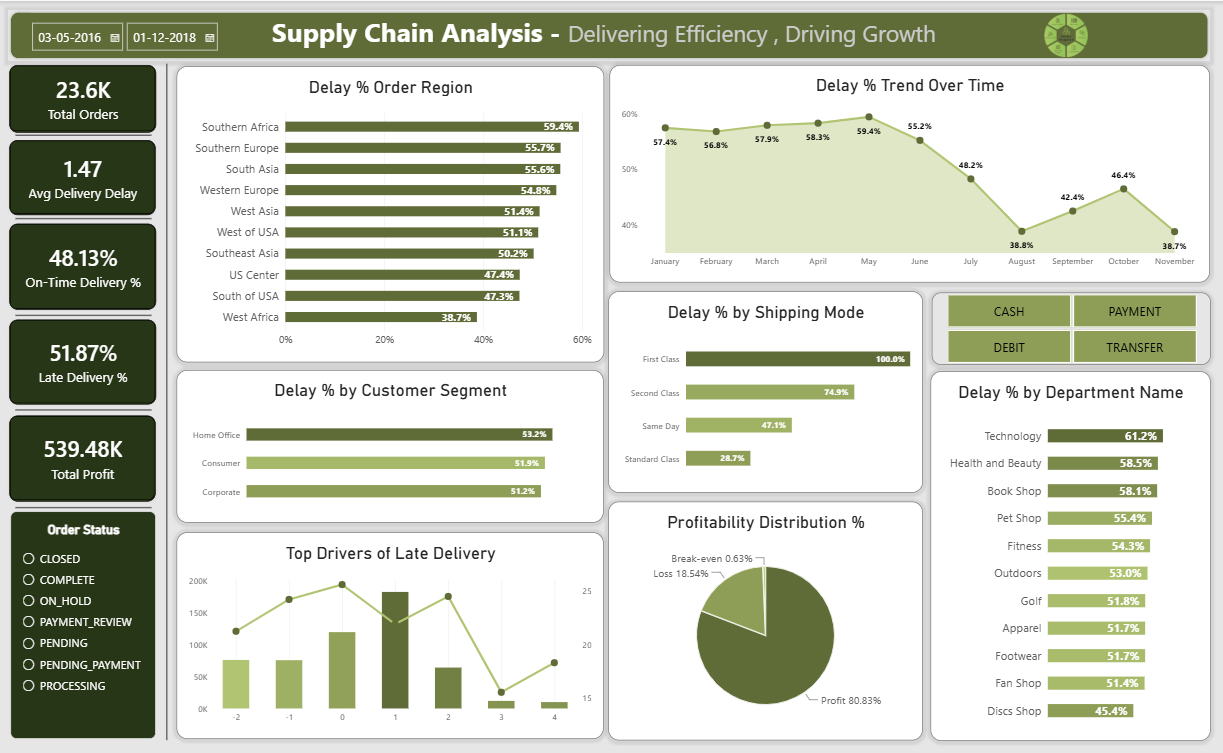

This screenshot's page, from the dashboard's own definition file:
{"tool":"powerbi","page":{"name":"Page 1","canvas":[1920,1080],"ordinal":0},"visuals":[{"type":"shape","box":[15.3,11.9,1703.4,72.9],"z":0},{"type":"textbox","box":[346,18,1026,72],"z":1000},{"type":"image","box":[1457.1,12.9,115.7,72.8],"z":2000},{"type":"shape","box":[218.2,89.1,45.5,958.2],"z":3000},{"type":"cardVisual","fields":{"Data":["Measure (2).On-Time Delivery %"]},"box":[17.2,315.4,208.3,122.3],"z":4000},{"type":"cardVisual","fields":{"Data":["Measure (2).Total Orders"]},"box":[17.2,89.8,208.3,95.6],"z":5000},{"type":"cardVisual","fields":{"Data":["Measure (2).Avg Delivery Delay"]},"box":[17.4,196.9,207.3,106.3],"z":6000},{"type":"cardVisual","fields":{"Data":["Measure (2).Late Delivery %"]},"box":[17.2,451.1,208.3,120.4],"z":7000},{"type":"cardVisual","fields":{"Data":["Measure (2).Total Profit"]},"box":[18.2,587.3,207.3,121.8],"z":8000},{"type":"barChart","fields":{"Y":["Measure (2).Delay %"],"Category":["Supply Chain.Customer Segment"]},"box":[254.4,523.4,605.1,216.3],"z":9000},{"type":"areaChart","title":" Delay % Trend Over Time","fields":{"Category":["Supply Chain.order date (DateOrders).Variation.Date Hierarchy.Month"],"Y":["Measure (2).Delay %"]},"box":[867.7,90.6,850.3,308.4],"z":10000},{"type":"barChart","fields":{"Y":["Measure (2).Delay %"],"Category":["Supply Chain.Shipping Mode"]},"box":[866.8,410.7,445.2,285.3],"z":11000},{"type":"lineClusteredColumnComboChart","title":"Top Drivers of Late Delivery","fields":{"Category":["Supply Chain.Delay Days"],"Y":["Measure (2).Total Profit"],"Y2":["Measure (2).Average Profit"]},"box":[254.4,752.3,605.1,292.6],"z":12000},{"type":"pieChart","title":"Profitability Distribution %","fields":{"Category":["Supply Chain.Profitability Flag"],"Y":["CountNonNull(Supply Chain.Order Profit Per Order)"]},"box":[866.8,708.7,445.2,338],"z":13000},{"type":"barChart","fields":{"Y":["Measure (2).Delay %"],"Category":["Supply Chain.Department Name"]},"box":[1321.8,523.6,396.4,523.6],"z":14000},{"type":"listSlicer","fields":{"Values":["Supply Chain.Order Status"]},"box":[20,723.3,205.3,321.7],"z":15000},{"type":"slicer","fields":{"Values":["Supply Chain.Type"]},"box":[1324.2,413,395.5,102.8],"z":16000},{"type":"slicer","fields":{"Values":["Supply Chain.order date (DateOrders)"]},"box":[41.8,26.1,304.9,48.8],"z":17000},{"type":"barChart","title":"Delay % Order Region","fields":{"Y":["Measure (2).Delay %"],"Category":["Supply Chain.Order Region"]},"box":[254.6,92,605.4,419.3],"z":18000},{"type":"shape","box":[25.5,183.6,192.7,14.5],"z":19000},{"type":"shape","box":[25.5,290.9,192.7,34.5],"z":20000},{"type":"shape","box":[25.5,398.2,192.7,92.7],"z":21000},{"type":"shape","box":[25.5,560,192.7,40],"z":22000},{"type":"shape","box":[25.5,701.8,192.7,30.9],"z":23000}]}

Visuals, with their boxes in screenshot pixels (x1, y1, x2, y2):
shape: BBox(25, 10, 1057, 55)
textbox: BBox(226, 14, 847, 58)
image: BBox(899, 11, 969, 55)
shape: BBox(148, 57, 176, 638)
cardVisual - Measure (2).On-Time Delivery %: BBox(26, 194, 153, 268)
cardVisual - Measure (2).Total Orders: BBox(26, 58, 153, 116)
cardVisual - Measure (2).Avg Delivery Delay: BBox(26, 122, 152, 187)
cardVisual - Measure (2).Late Delivery %: BBox(26, 277, 153, 349)
cardVisual - Measure (2).Total Profit: BBox(27, 359, 153, 433)
barChart - Measure (2).Delay % x Supply Chain.Customer Segment: BBox(170, 320, 537, 451)
" Delay % Trend Over Time" areaChart: BBox(542, 58, 1057, 245)
barChart - Measure (2).Delay % x Supply Chain.Shipping Mode: BBox(541, 252, 811, 425)
"Top Drivers of Late Delivery" lineClusteredColumnComboChart: BBox(170, 459, 537, 636)
"Profitability Distribution %" pieChart: BBox(541, 433, 811, 637)
barChart - Measure (2).Delay % x Supply Chain.Department Name: BBox(817, 320, 1057, 638)
listSlicer - Supply Chain.Order Status: BBox(28, 441, 152, 636)
slicer - Supply Chain.Type: BBox(818, 253, 1058, 316)
slicer - Supply Chain.order date (DateOrders): BBox(41, 19, 226, 49)
"Delay % Order Region" barChart: BBox(170, 59, 537, 313)
shape: BBox(31, 114, 148, 123)
shape: BBox(31, 179, 148, 200)
shape: BBox(31, 244, 148, 301)
shape: BBox(31, 342, 148, 367)
shape: BBox(31, 428, 148, 447)
